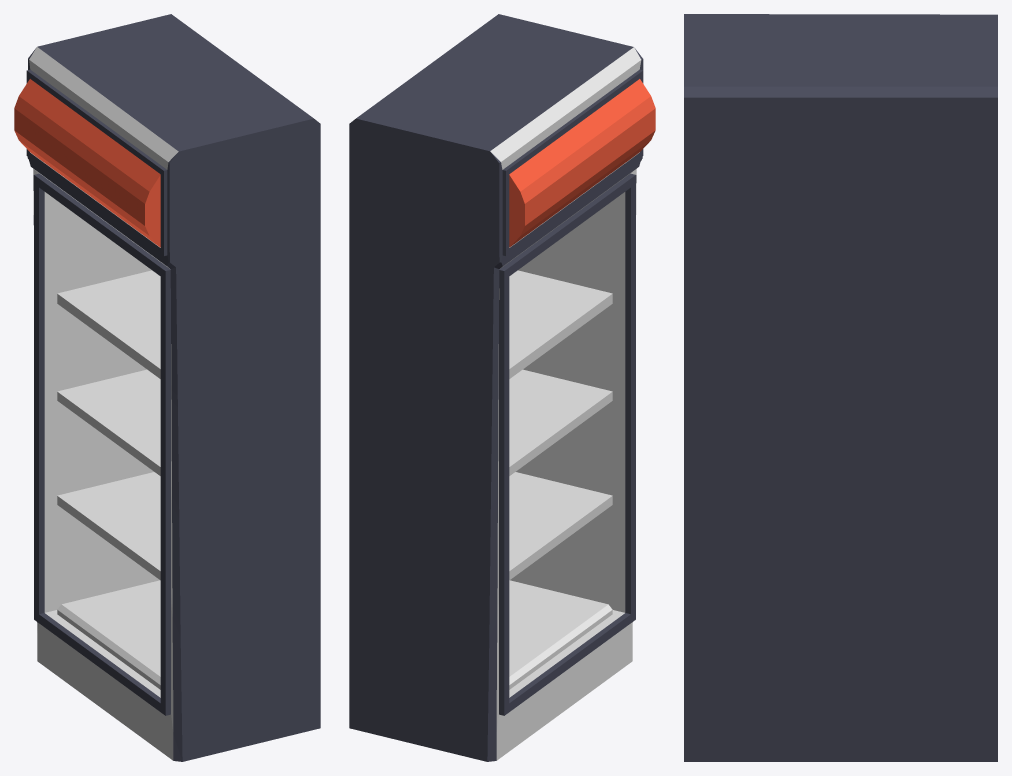
Rendered from SHELF freezer.fbx.
3 renders of one model, left to right at view 1: azimuth 30°, elevation 25°; view 2: azimuth 150°, elevation 25°; view 3: azimuth 270°, elevation 25°, orthographic. The views are drawn at different scales.
Visible parts, largest first — view 1: freezer shelf; view 2: freezer shelf; view 3: freezer shelf.
Boxes of the visible parts, x1,y1,x2,y2 form: freezer shelf: [14, 14, 320, 761]; freezer shelf: [349, 14, 655, 761]; freezer shelf: [684, 14, 997, 761].
Size of the model in its own units: 2.36 by 3.44 by 8.12.
